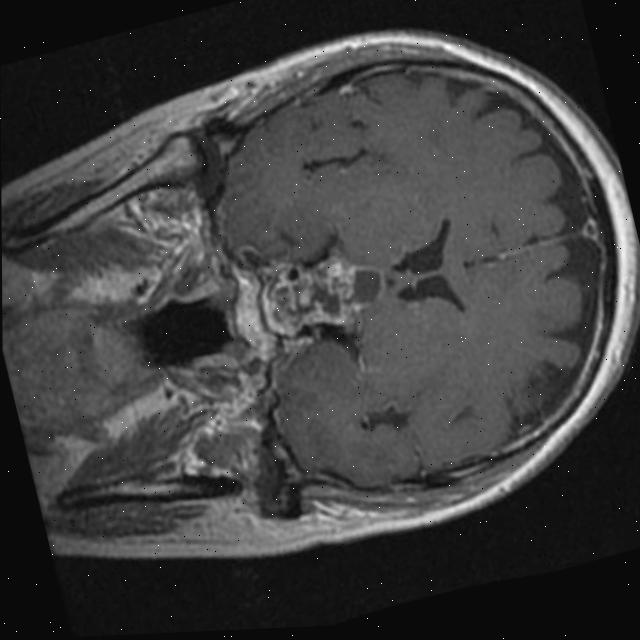Pituitary: (256, 251, 389, 343)
